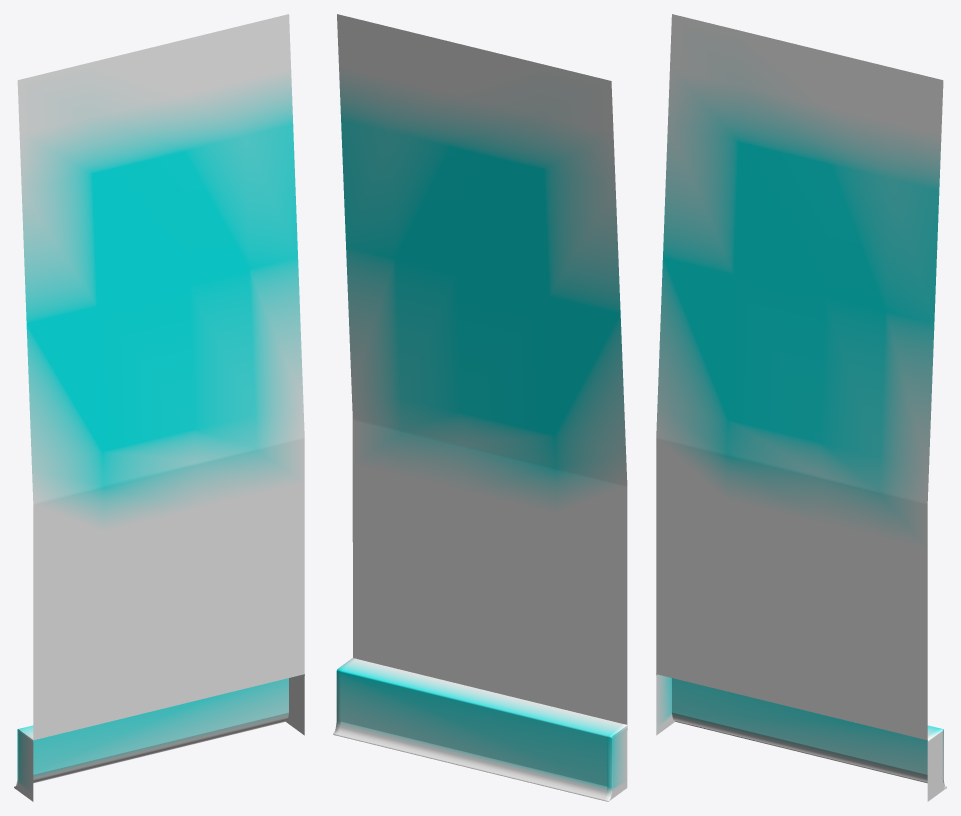
The model's file is SM_int_wall_100_01.fbx.
3 views of the same model, side by side, from view 1: azimuth 30°, elevation 25°; view 2: azimuth 150°, elevation 25°; view 3: azimuth 330°, elevation 25° (orthographic).
Visible parts, largest first — view 1: SM_int_wall_100_01_LOD0; view 2: SM_int_wall_100_01_LOD0; view 3: SM_int_wall_100_01_LOD0.
Part boxes in pixels (x1,y1,x2,y2): SM_int_wall_100_01_LOD0: (14,14,304,801); SM_int_wall_100_01_LOD0: (333,14,627,801); SM_int_wall_100_01_LOD0: (656,14,946,801).
Size of the model in its own units: 100 by 250 by 12.16.
